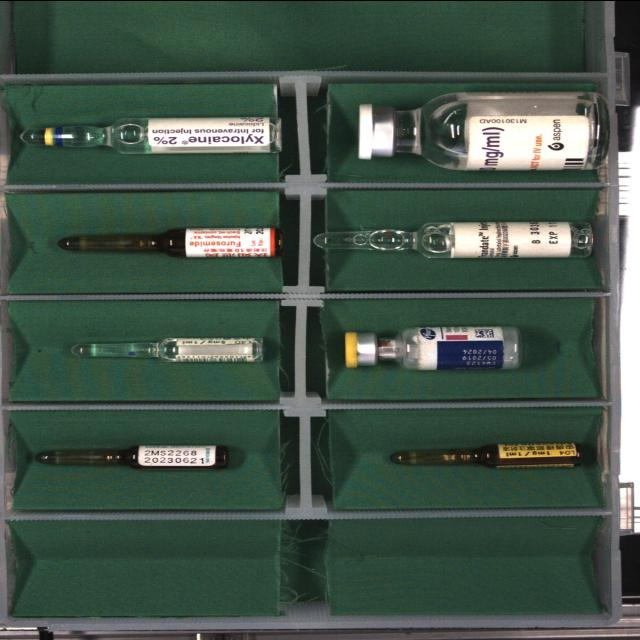Vials: (359, 91, 606, 169), (345, 326, 520, 369)
